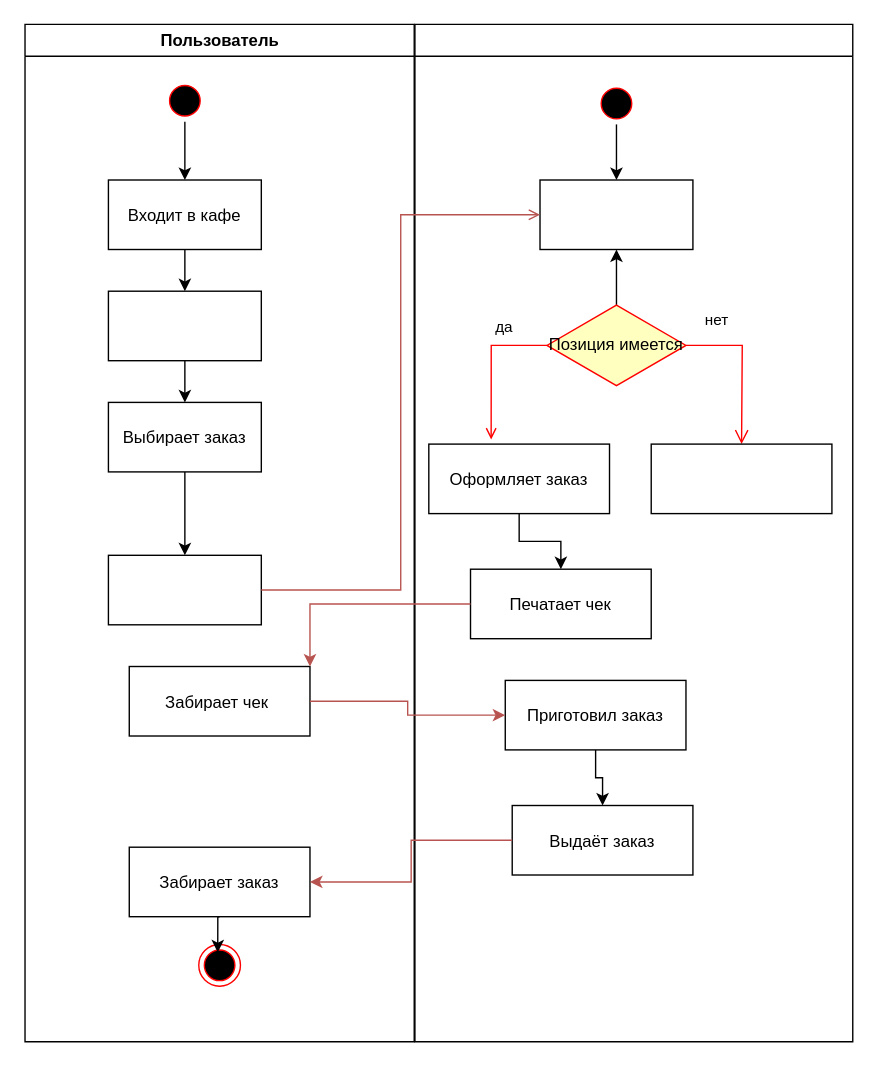
Image size: 877x1066. Some labels were removed from this diagram. Each missing label, with the box of its shape:
Бариста: (414, 23, 853, 1042)
Подходит оформлять заказ: (107, 554, 261, 625)
проверяет, есть ли позиция: (539, 179, 693, 250)
Просит выбрать другую позицию: (650, 443, 832, 514)
Смотрит Позиции: (107, 290, 261, 361)
